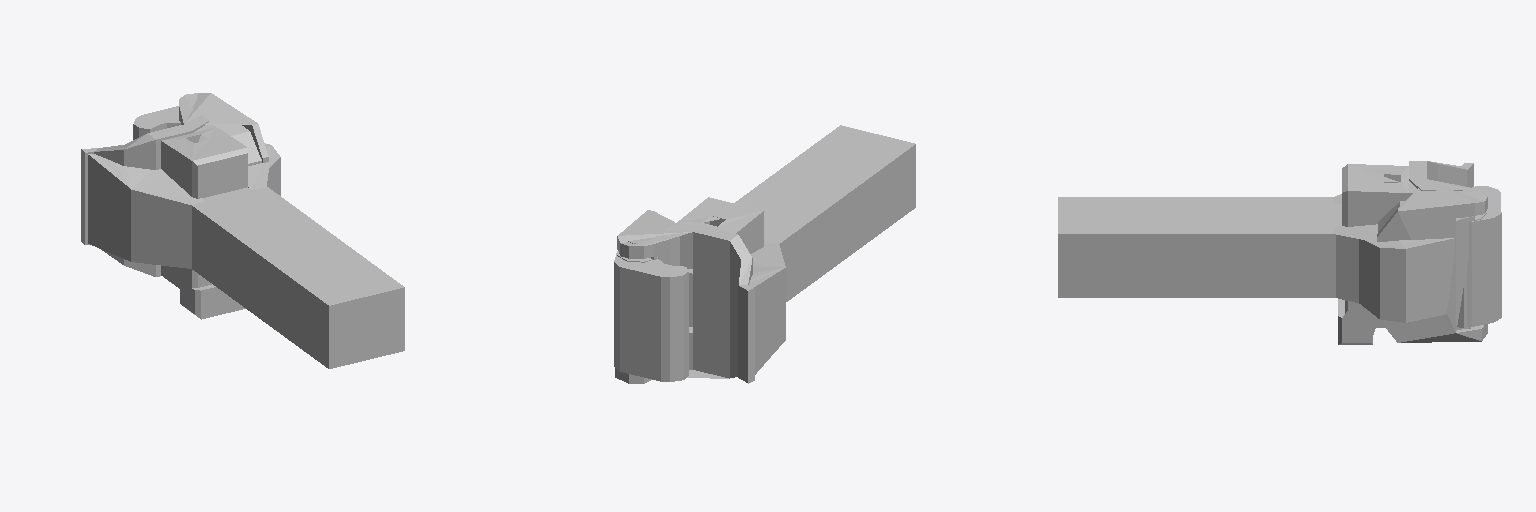
The model's file is Lower Detailed Coupler.obj.
3 renders of one model, left to right at view 1: azimuth 30°, elevation 25°; view 2: azimuth 150°, elevation 25°; view 3: azimuth 270°, elevation 25°, orthographic.
Parts seen in each view (by area): view 1: Cube.000, Cylinder.000; view 2: Cube.000, Cylinder.000; view 3: Cube.000, Cylinder.000.
Part boxes in pixels (x1,y1,x2,y2): Cube.000: (81,93,404,368); Cylinder.000: (133,106,181,139); Cube.000: (615,125,915,383); Cylinder.000: (614,251,692,381); Cube.000: (1058,161,1487,344); Cylinder.000: (1457,186,1501,327).
Bounding box in the file's own units: 6.23 × 5.94 × 15.15.